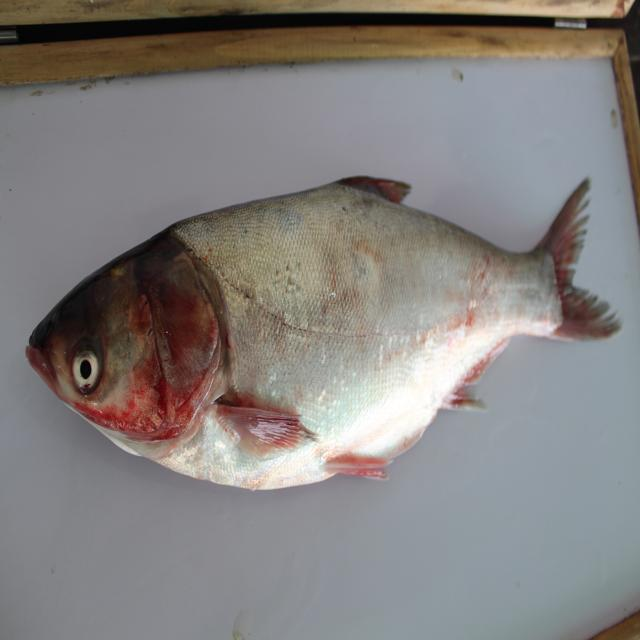SilverCarp: (18, 164, 622, 498)
